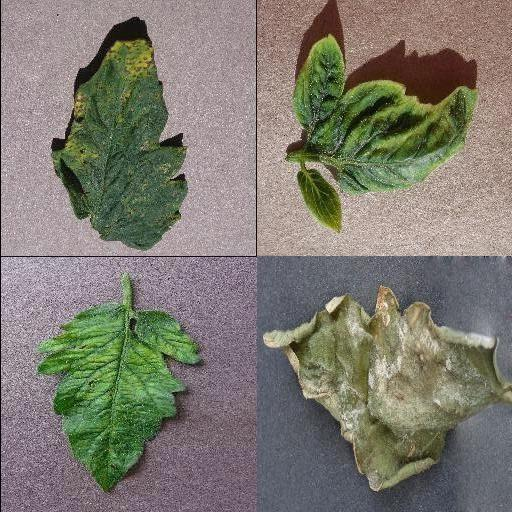Late Blight: (261, 284, 512, 491)
Mosaic Virus: (34, 305, 202, 495)
Septoria: (50, 38, 190, 250)
Yellow Leaf Curl Virus: (312, 81, 478, 196), (294, 37, 344, 127), (295, 170, 345, 235)
